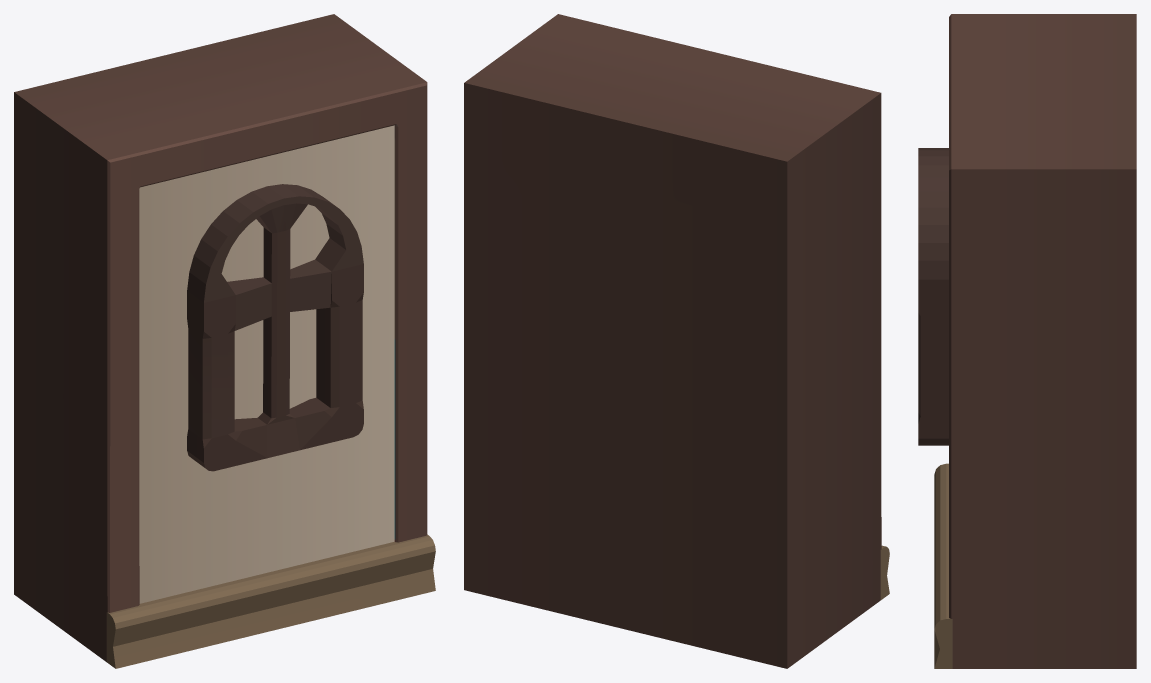
Rendered from janela_lab_LoPo.fbx.
3 views of the same model, side by side, from view 1: azimuth 30°, elevation 25°; view 2: azimuth 150°, elevation 25°; view 3: azimuth 270°, elevation 25° (orthographic).
Visible parts, largest first — view 1: janela_lab_LoPo; view 2: janela_lab_LoPo; view 3: janela_lab_LoPo.
Part boxes in pixels (left/top/right/bottom): janela_lab_LoPo: left=14, top=14, right=435, bottom=668; janela_lab_LoPo: left=464, top=14, right=889, bottom=668; janela_lab_LoPo: left=918, top=14, right=1136, bottom=668.
Bounding box in the file's own units: 200 × 300 × 119.
